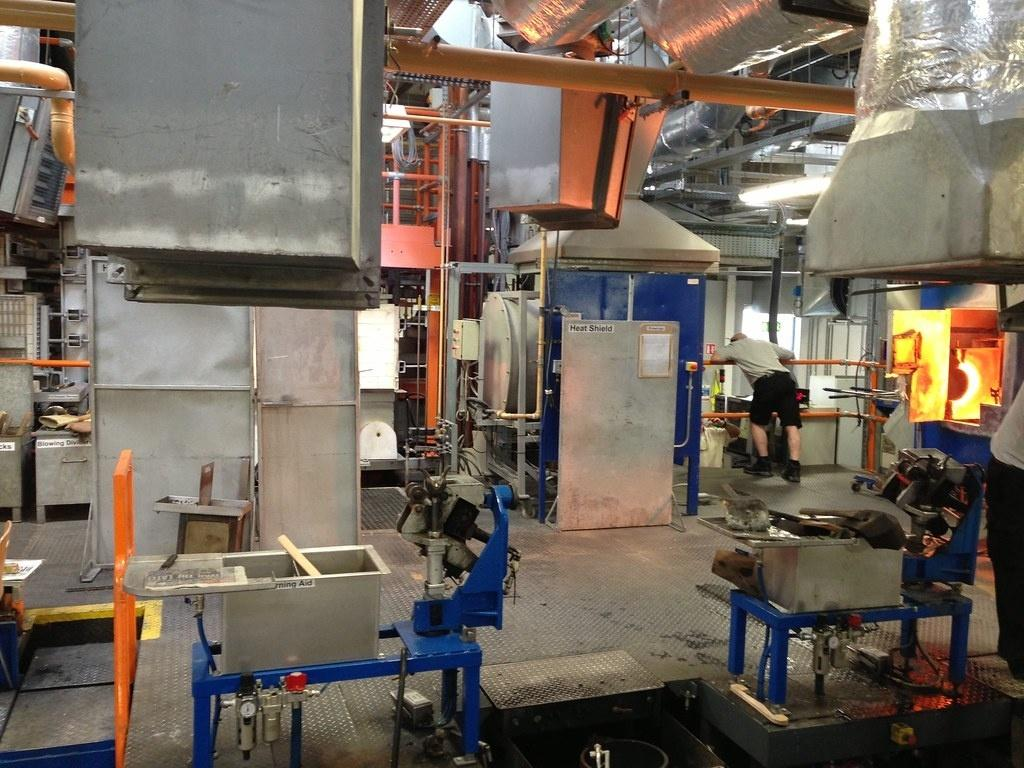pessoa: (703, 322, 824, 508)
